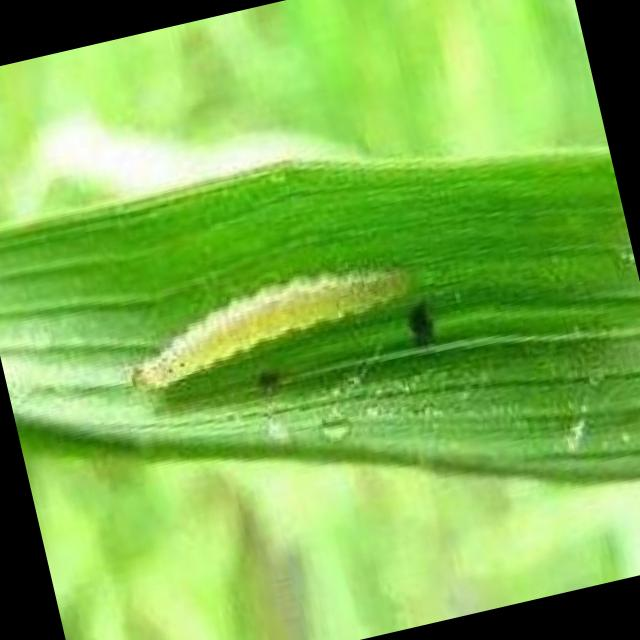leaf-folder: (95, 210, 466, 418)
